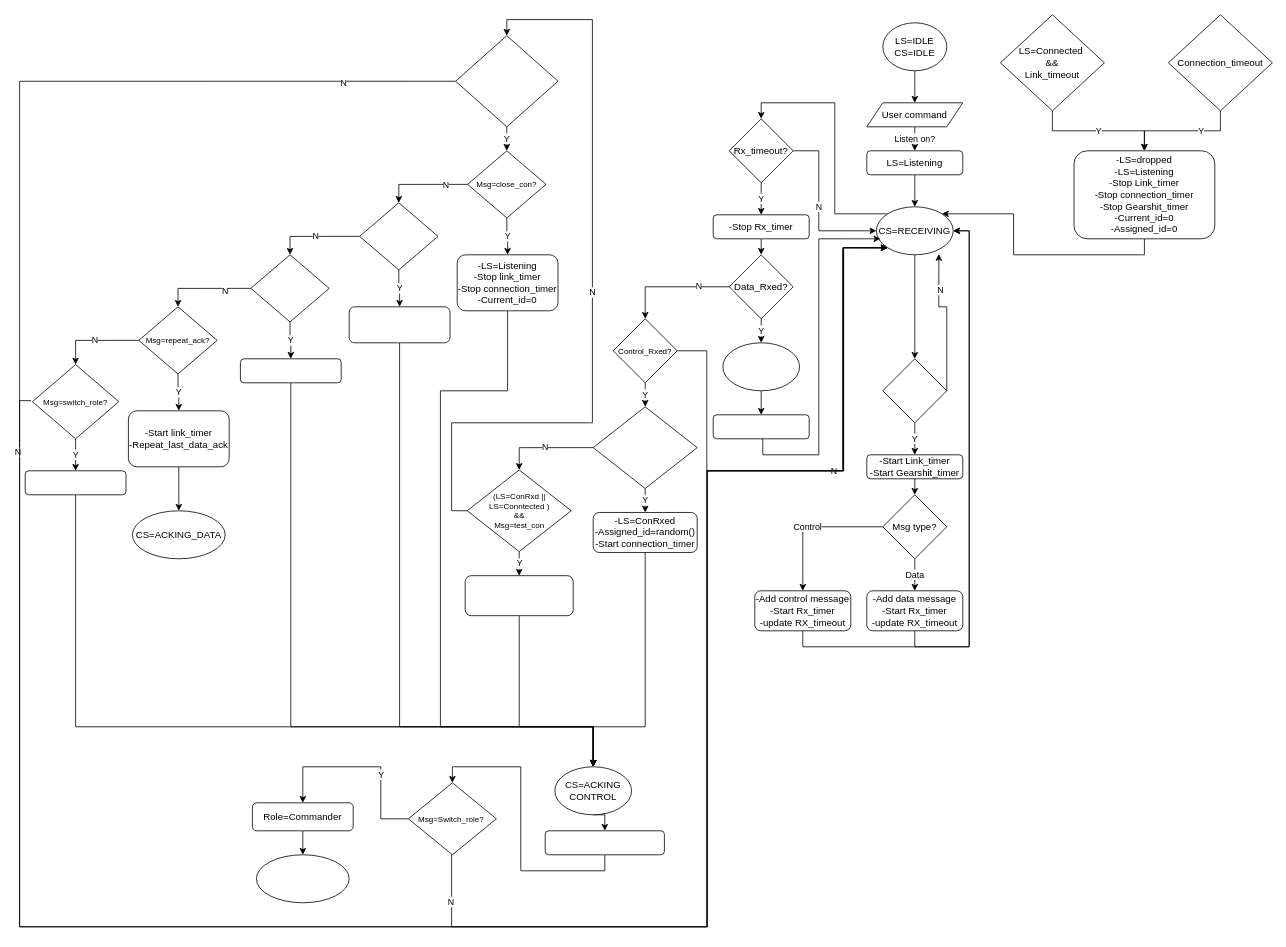
Image size: 1286x947. Some labels were removed from this diagram. The shapes that lost their labels are listed below. From the top down, each one's centre as x and y in pixels, then its label:
At point 506,81: "LS=Connected".
At point 398,236: "Msg=end_block?".
At point 289,288: "Msg=set_config?".
At point 399,324: "-Copy_data_to_buffer -Stat link_timer".
At point 290,370: "-Load_config".
At point 761,366: "CS=ACKING DATA".
At point 914,390: "Msg Rxed?".
At point 760,426: "Pad & send data_ack".
At point 644,447: "(LS=Listening || LS=ConRxd ) && Msg=start_con".
At point 75,482: "-Stat link_timer".
At point 518,595: "-LS=Connected -Stop connection_timer -Add SNR value to Ack".
At point 604,842: "Pad & send control_ack Current_id=Assigned_id".
At point 302,878: "CS=TXING_DATA".
